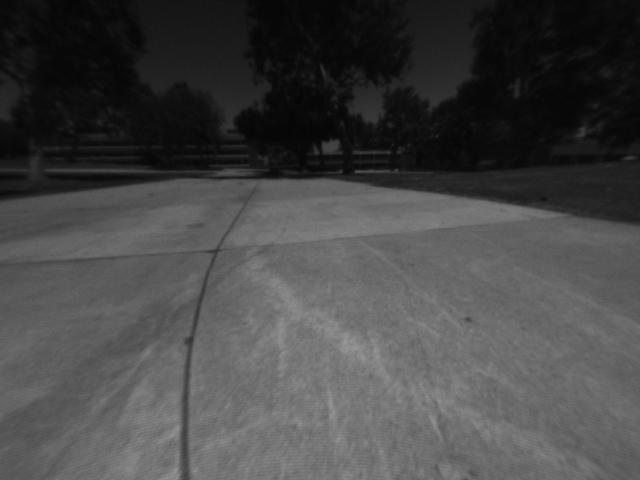dogtoy: (533, 187, 556, 206)
